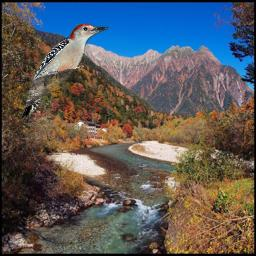Woodpecker: (21, 23, 109, 119)
